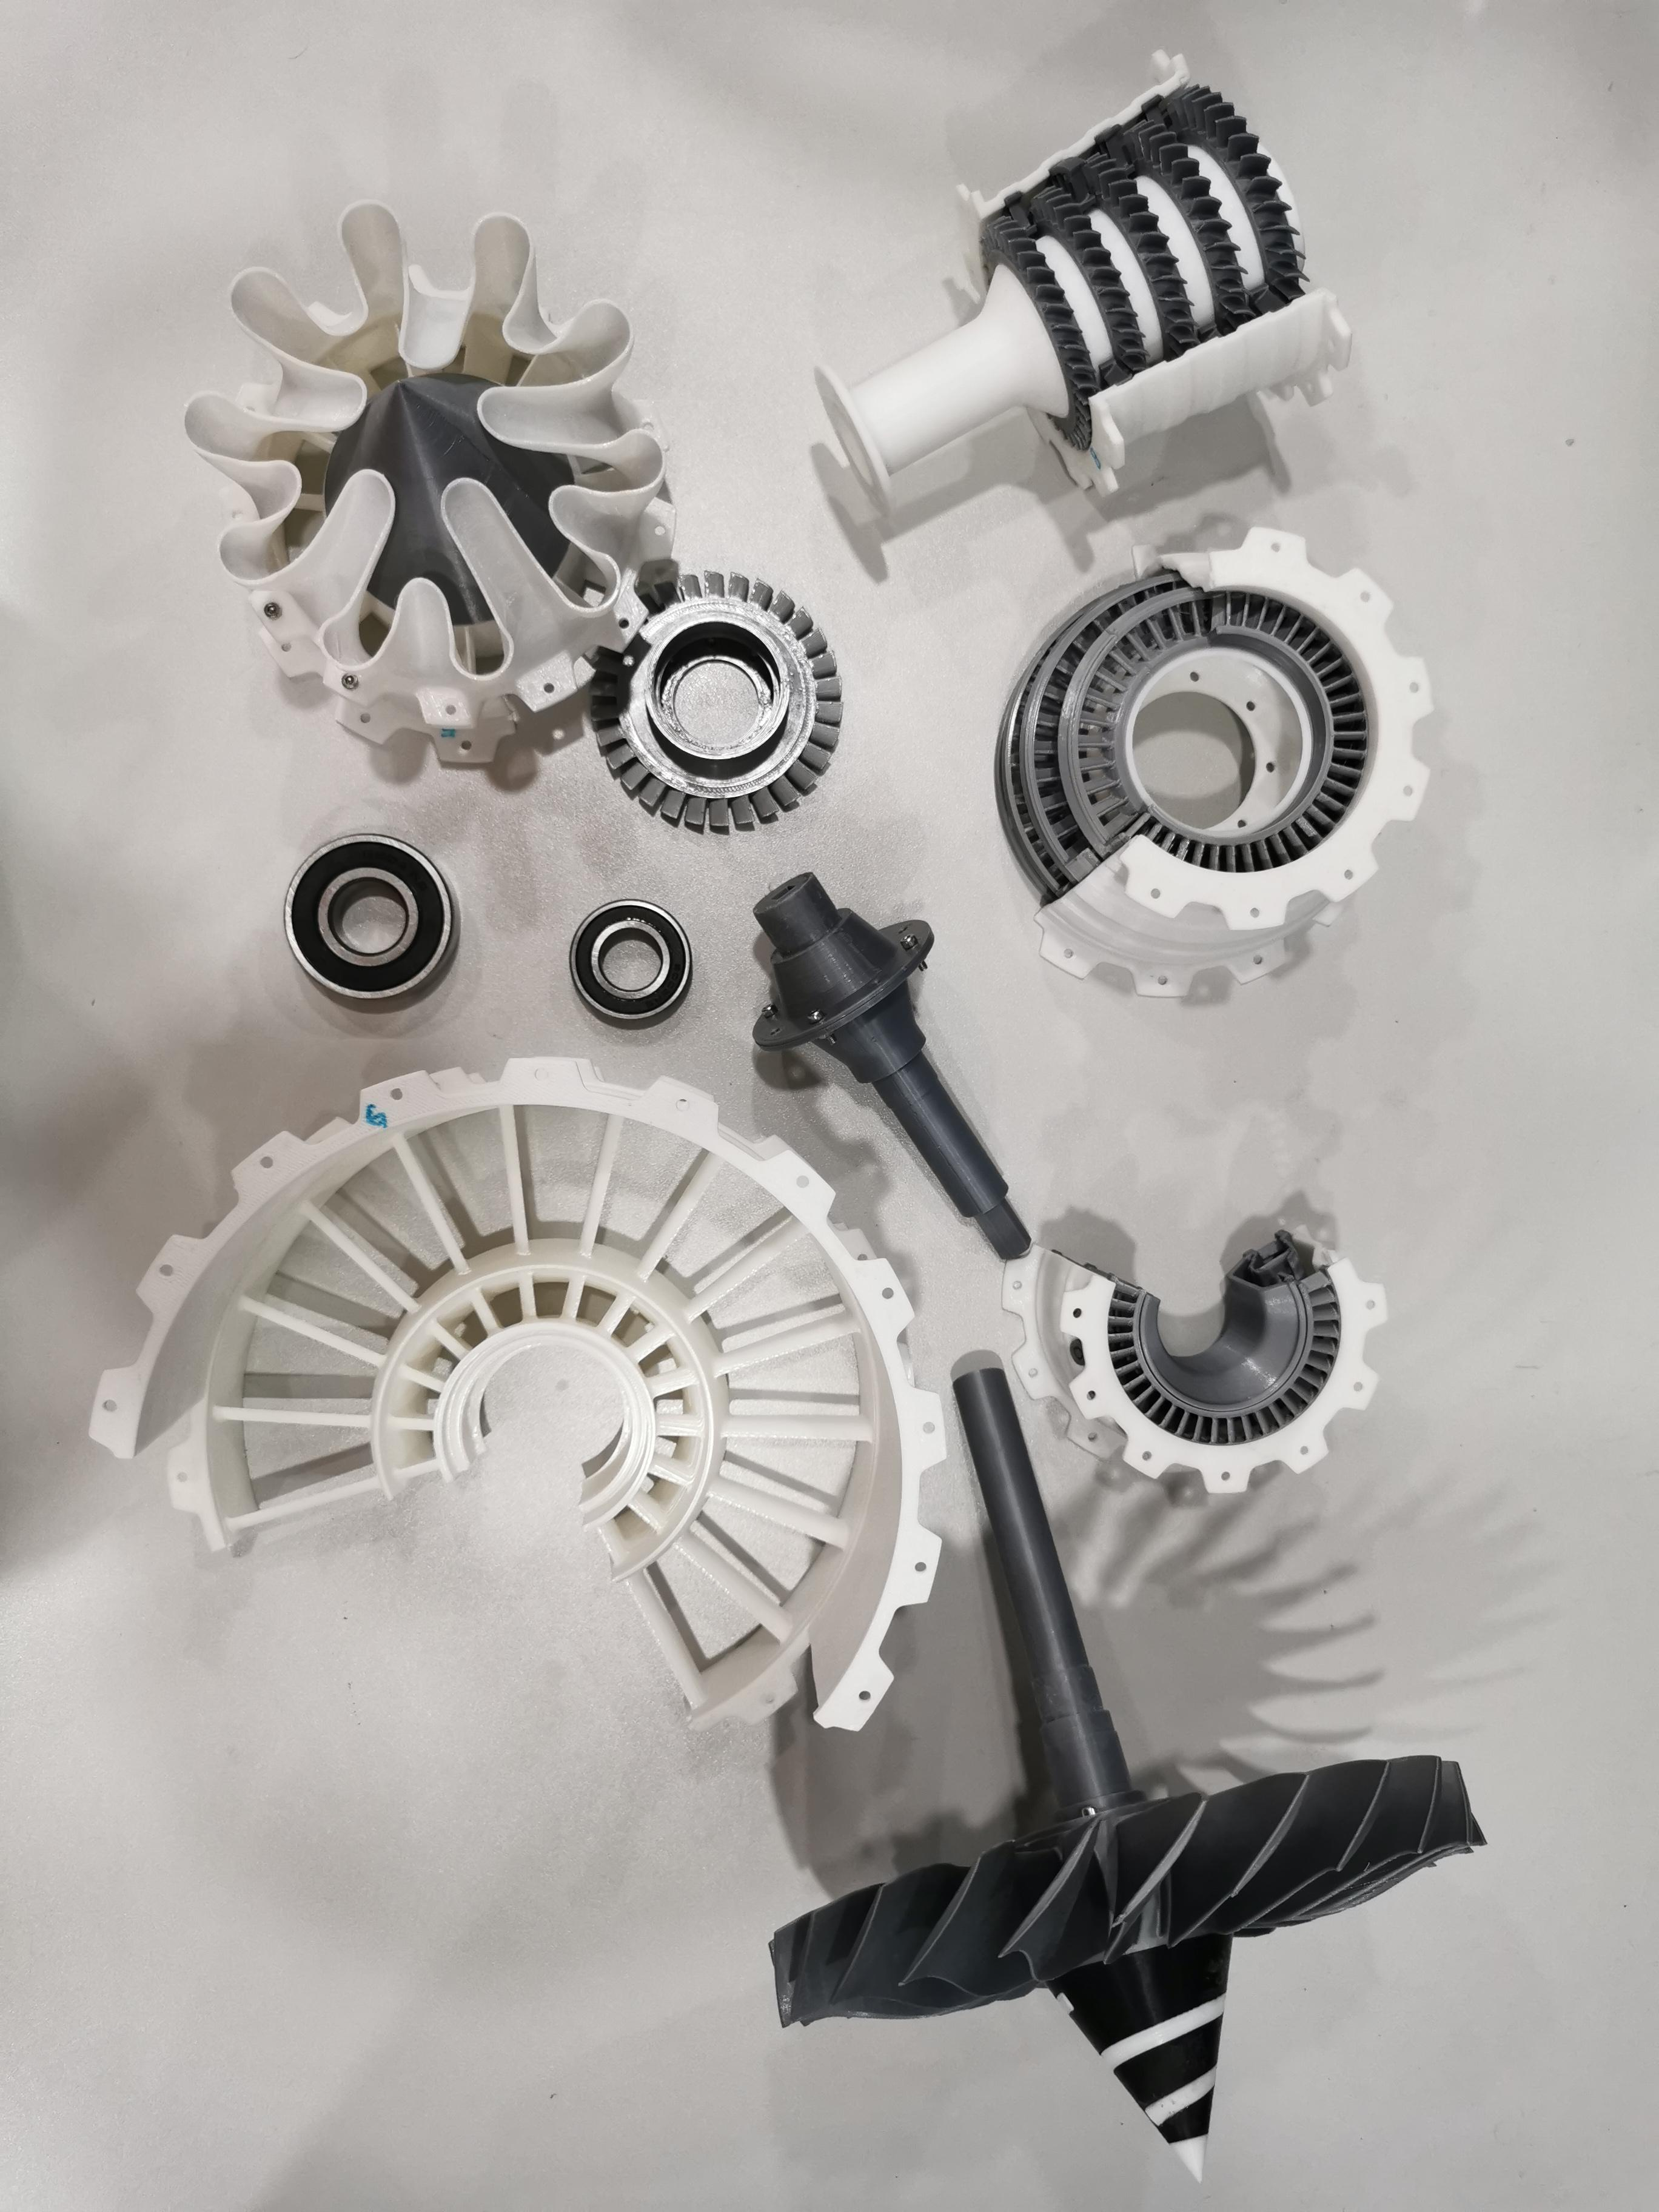Bearing-6003: (556, 890, 711, 1045)
Bearing-6204: (265, 815, 467, 1033)
Combustion Section: (993, 1204, 1410, 1503)
Fan Casing and Support: (82, 1049, 962, 1743)
Fan and Low Pressure Shaft: (744, 1355, 1493, 2195)
HPT Section: (573, 556, 857, 841)
High Pressure Spool: (800, 33, 1373, 524)
LPT Section: (967, 524, 1445, 1012)
Low Pressure Spool: (734, 857, 1047, 1271)
Nozzle Section: (176, 192, 683, 773)
